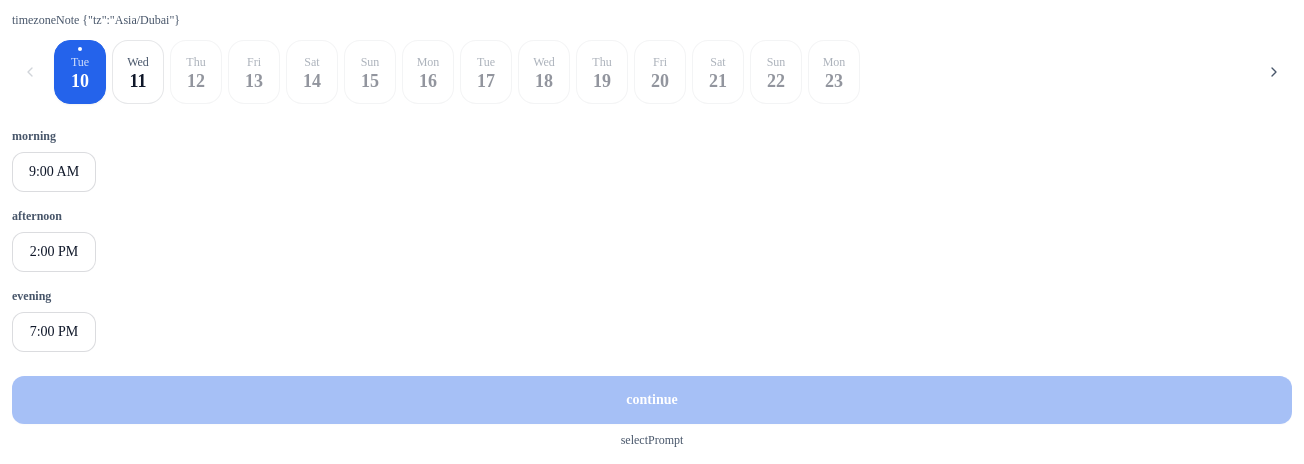
Test: AvailabilityPicker slot rendering › files a late-evening UTC slot under the NEXT day in the offering's timezone
The width and height of the screenshot is (1304, 464).
Expected: the text "12:30" is not shown
# Selecting the 11th surfaces it.
Click the button "Wed 11".
click(138, 72)  # box [112,40,164,104]
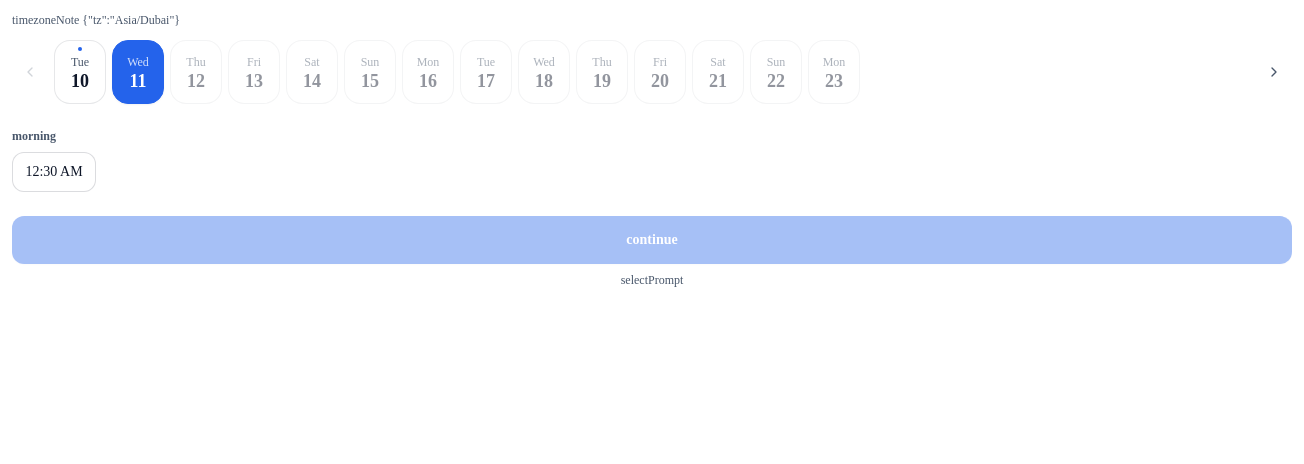
Result: the button "12:30 AM" is shown at [12,152,96,192]
